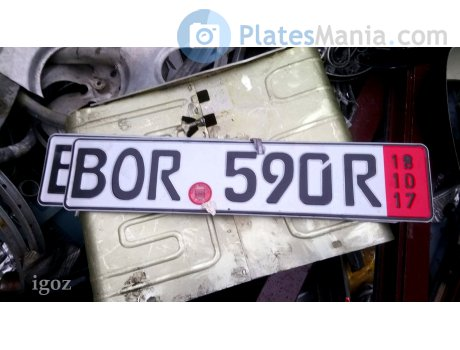License Plates: (80, 146, 377, 205)
